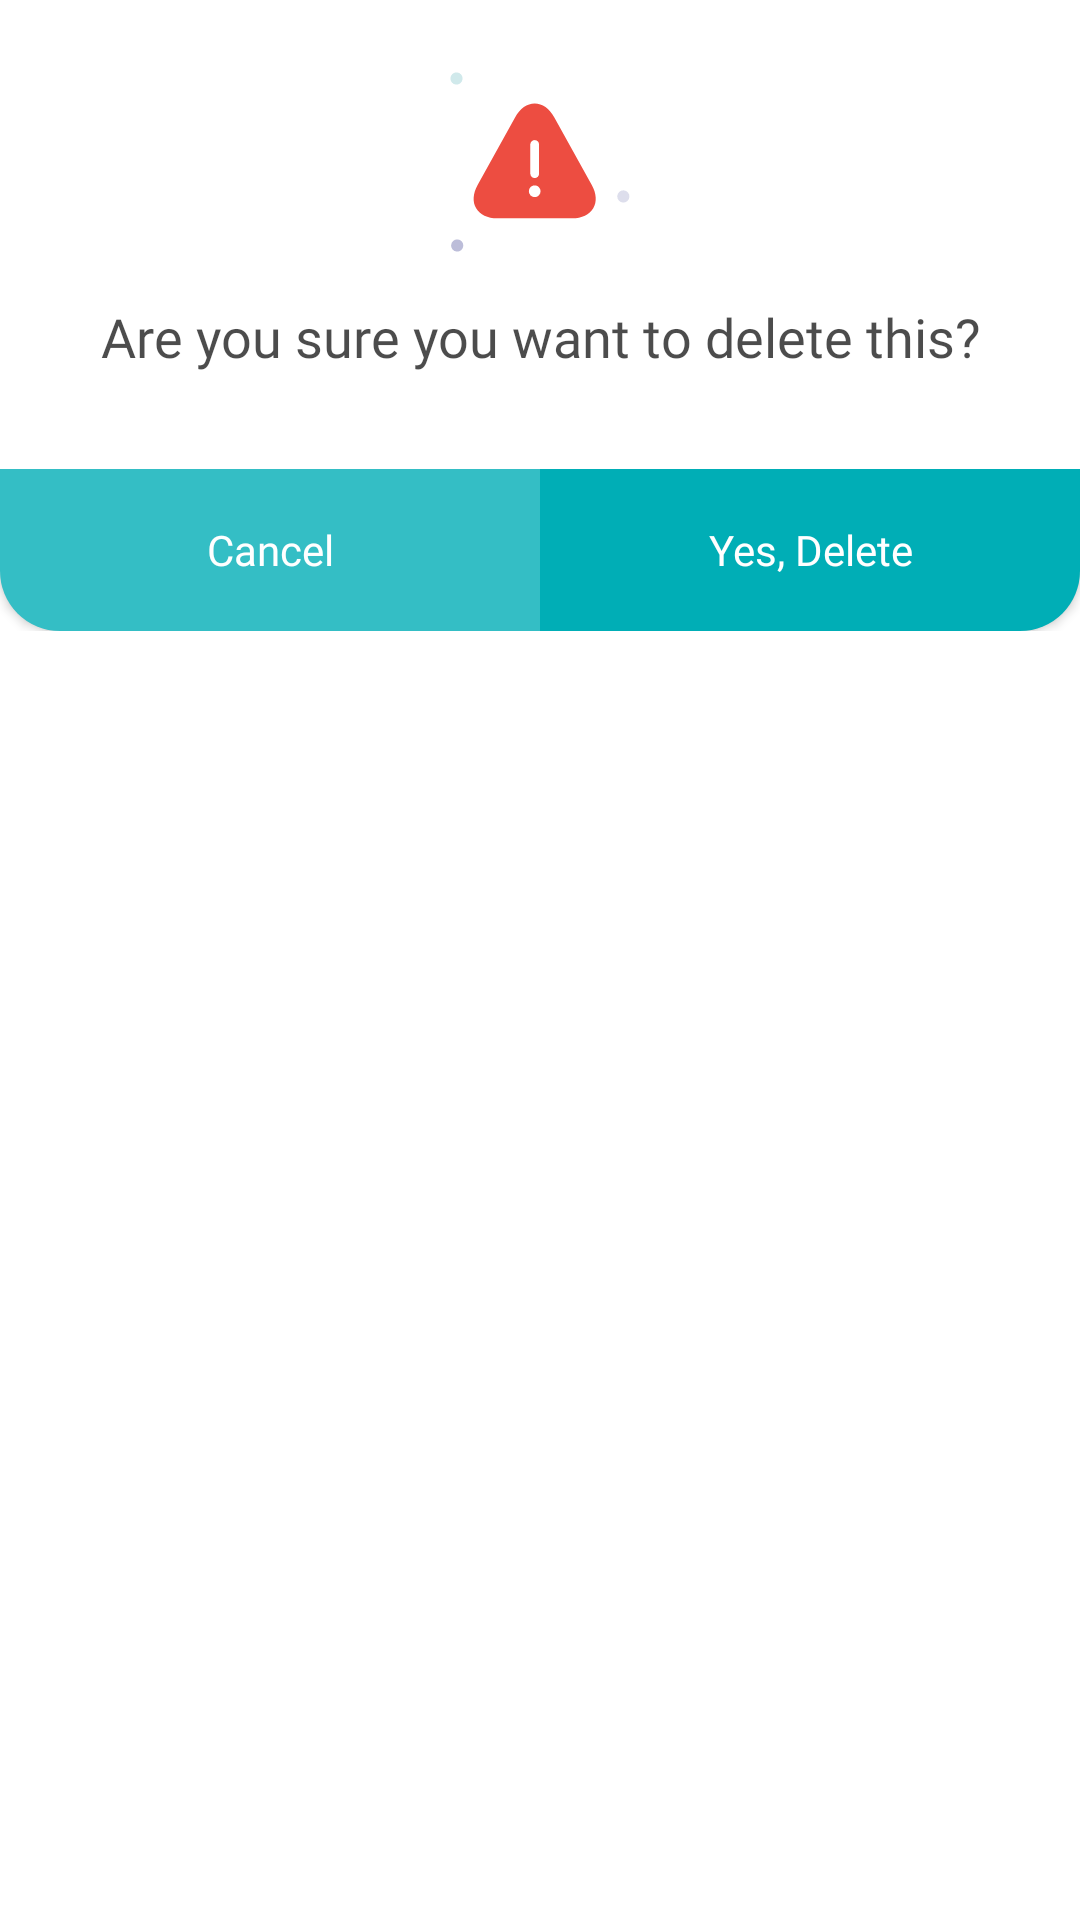

Icons on this 1080×1920 Android screen, each with the point to tap as [x,y]:
warning: [540,162]
